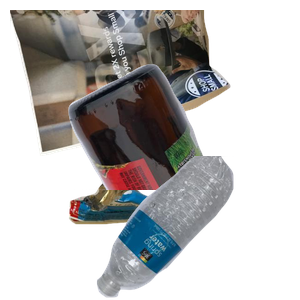glass: (66, 61, 300, 241)
paper: (10, 10, 233, 158)
plastic: (94, 156, 300, 300)
trash: (66, 173, 272, 300)
